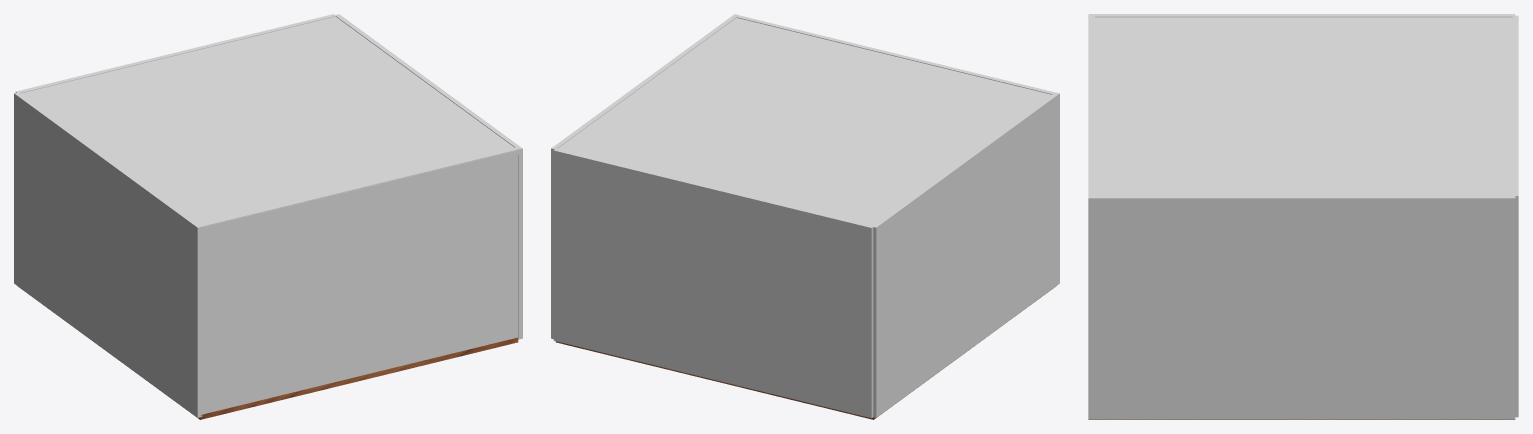
The model's file is room.glb.
3 views of the same model, side by side, from view 1: azimuth 30°, elevation 25°; view 2: azimuth 150°, elevation 25°; view 3: azimuth 270°, elevation 25° (orthographic). The views are drawn at different scales.
Visible parts, largest first — view 1: wall3, ceiling, wall4, wall1, floor, wall2; view 2: wall2, ceiling, wall4, wall1, wall3, floor; view 3: wall1, ceiling, wall2, wall4, wall3, floor.
Part boxes in pixels (<box>): wall3: <box>199,147,517,414</box>; ceiling: <box>21,16,518,231</box>; wall4: <box>14,92,202,417</box>; wall1: <box>335,14,522,339</box>; floor: <box>19,287,518,419</box>; wall2: <box>15,14,335,93</box>; wall2: <box>553,149,873,418</box>; ceiling: <box>557,18,1051,225</box>; wall4: <box>872,92,1059,417</box>; wall1: <box>551,14,738,338</box>; wall3: <box>736,15,1056,94</box>; floor: <box>555,287,1054,419</box>; wall1: <box>1088,196,1515,419</box>; ceiling: <box>1088,17,1512,195</box>; wall2: <box>1512,15,1518,417</box>; wall4: <box>1088,14,1515,17</box>; wall3: <box>1088,15,1094,195</box>; floor: <box>1088,419,1514,419</box>.
Bounding box in the file's own units: 14.31 × 8.11 × 14.11.
9 materials, 5 textured.
